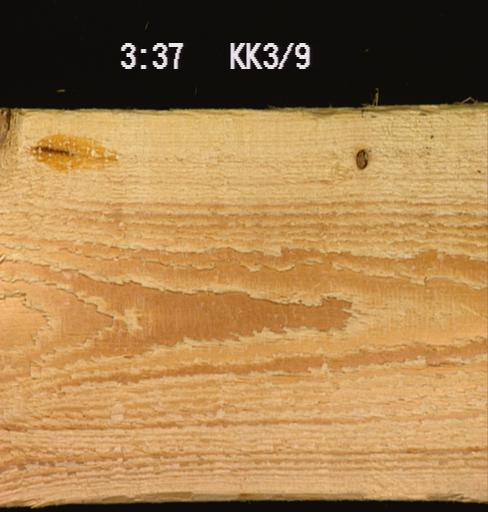dry_knot: (352, 145, 372, 172)
wave: (14, 101, 487, 122), (0, 489, 487, 508)
